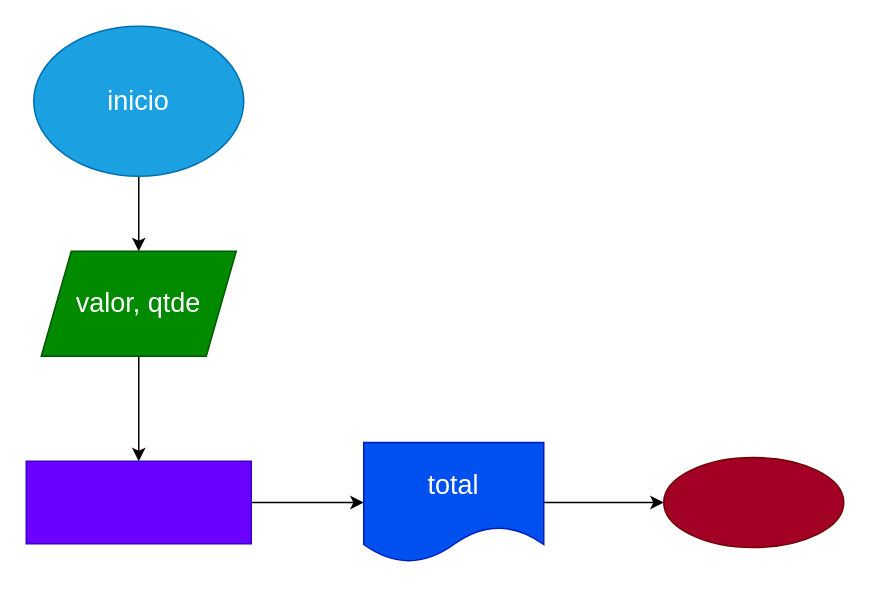
Some shapes in this 870 by 590 pixel diagram are drawn without their labels. Each missing label, with the box of its shape:
fim: (662, 456, 844, 548)
total<- valor*qtde: (25, 460, 251, 544)
